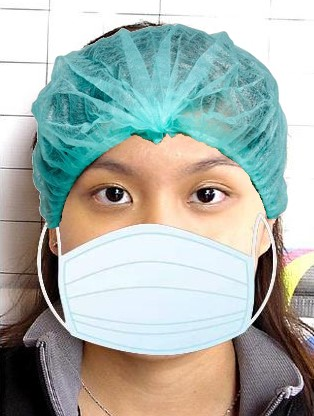with_mask_and_cap: (34, 25, 283, 355)
